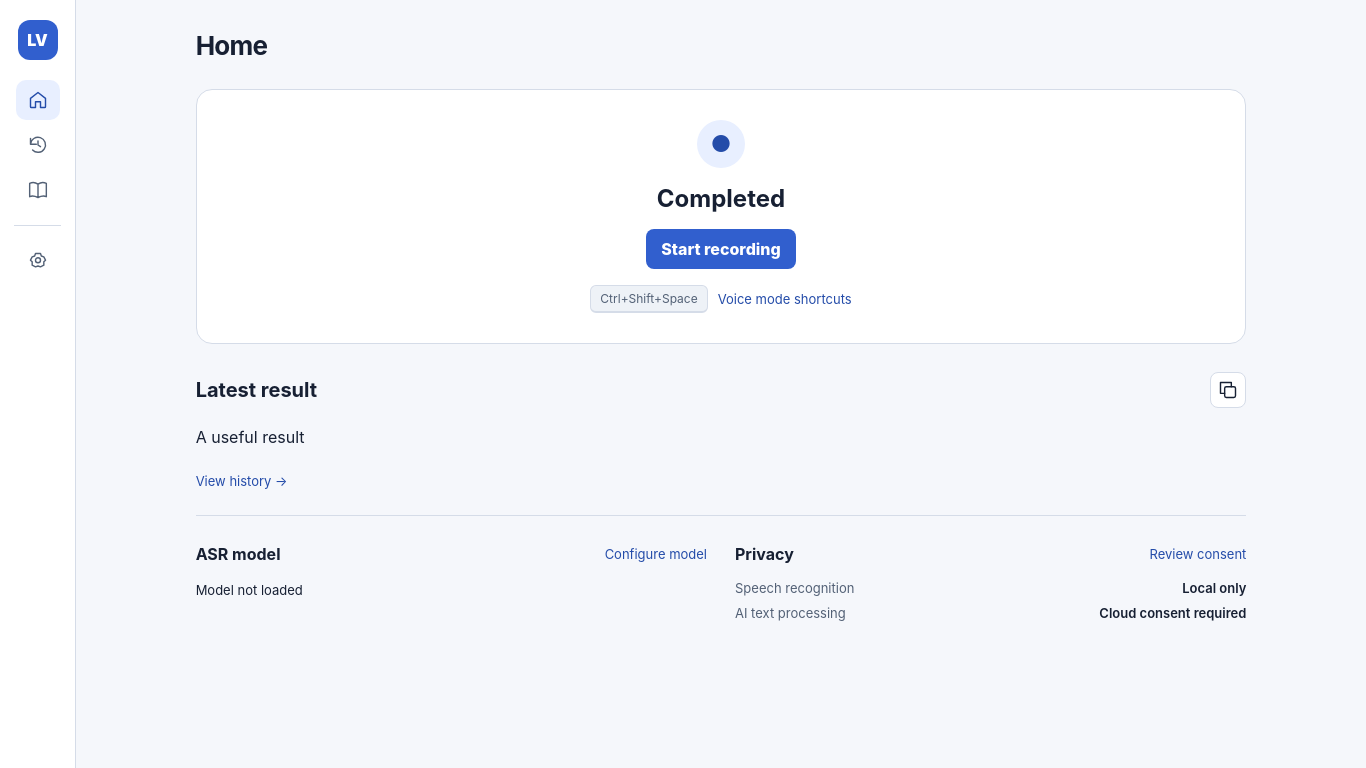
Test: home offers direct copy and task navigation without secondary settings links
The image size is (1366, 768).
Click the button named "Copy" at (1228, 390), box left=1210, top=372, right=1246, bottom=408
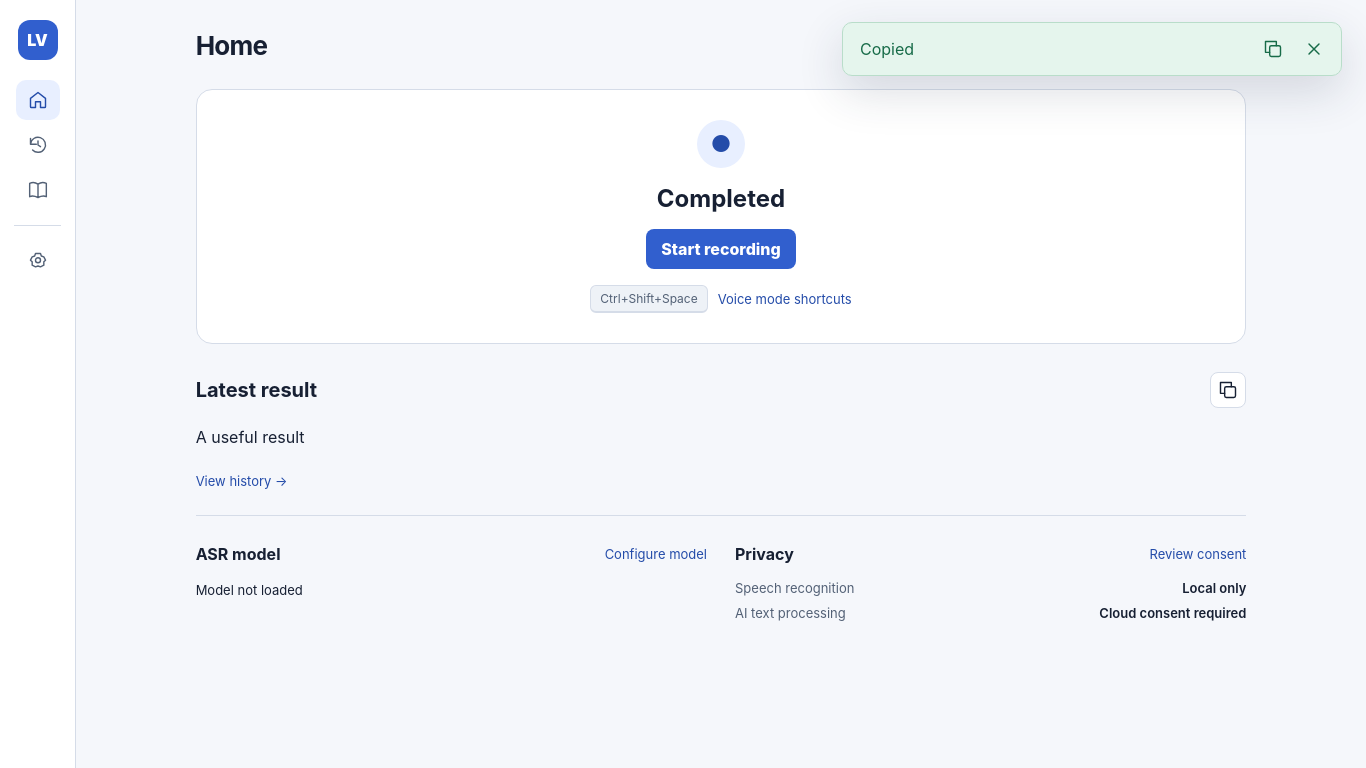
Click the button "View history →" at (242, 481), box left=196, top=467, right=287, bottom=495
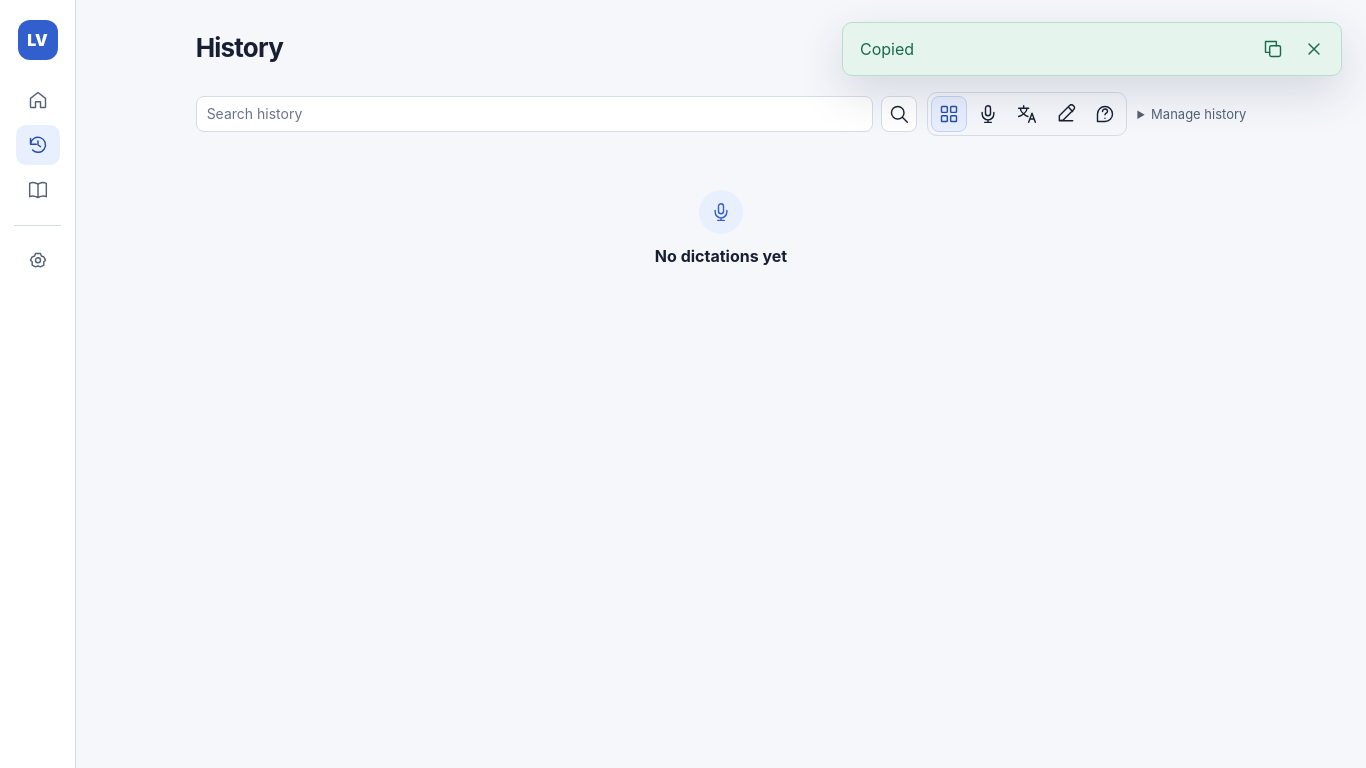
Expected: the search field labelled "Search history" is shown, left=196, top=96, right=873, bottom=132
